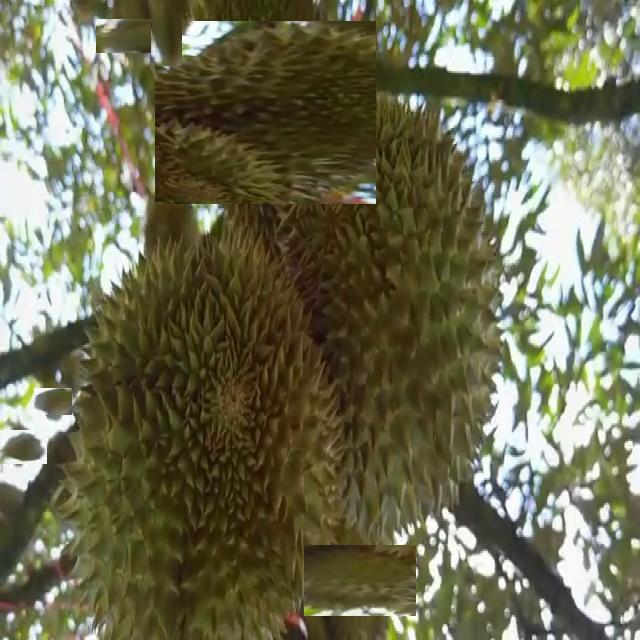durian: (48, 222, 353, 640), (264, 85, 508, 538), (165, 11, 368, 214), (314, 535, 406, 627), (105, 10, 158, 63), (151, 2, 182, 66), (2, 426, 44, 467), (36, 386, 70, 418)
